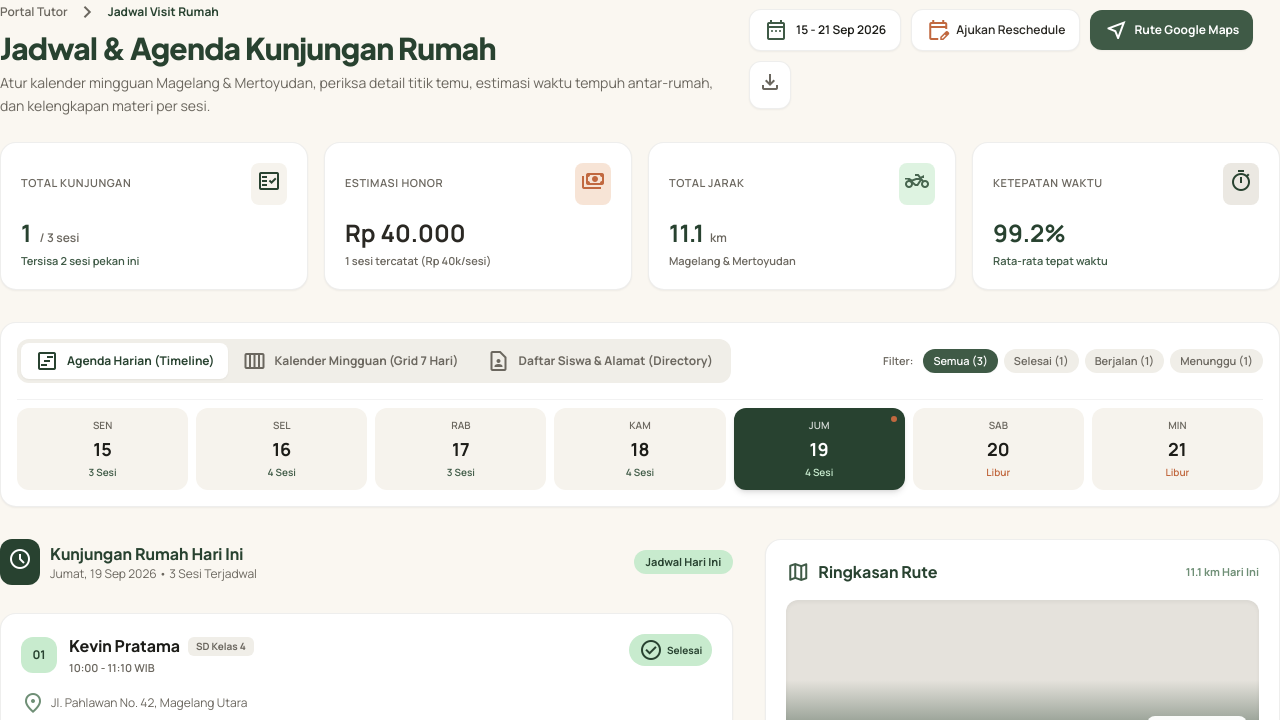
Test: TutorVisitSchedule Component (SQA-ISTQB & TDD) › TC-TVS-006: opens reschedule modal and submits reschedule request
Click the button "Ajukan Reschedule" at (996, 30), box top-left (911, 9), bottom-right (1080, 51)
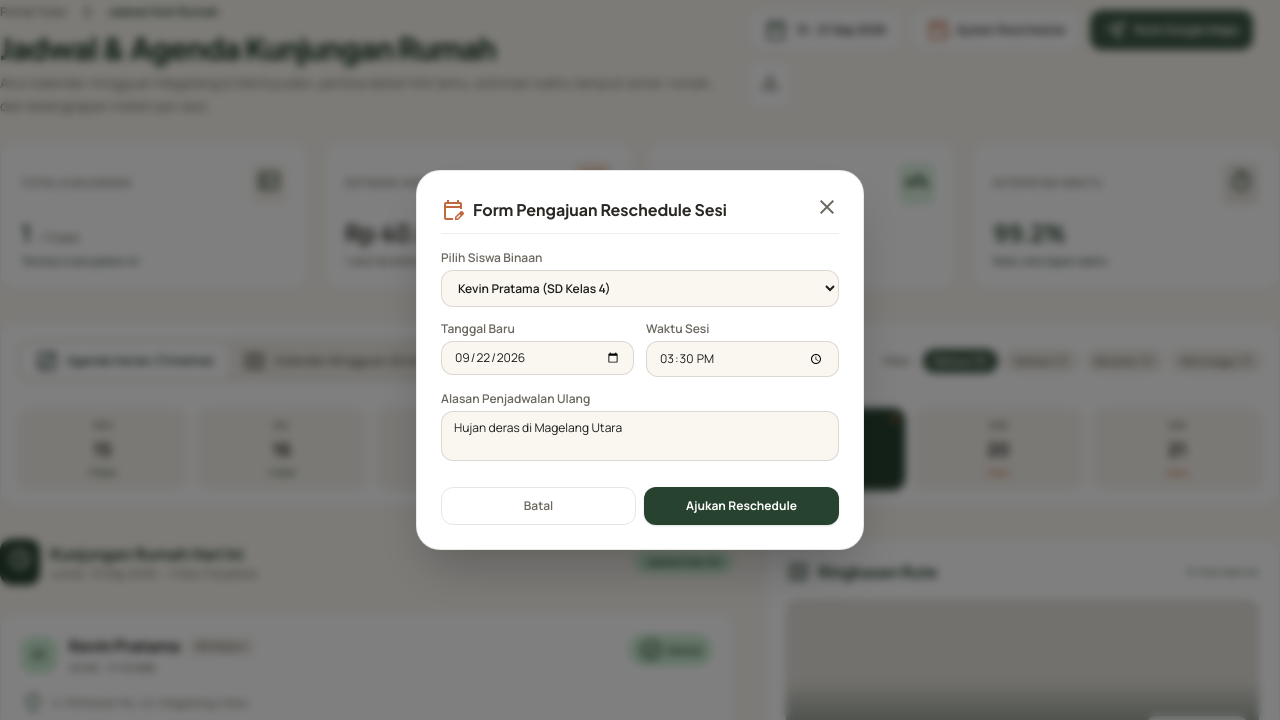
expect the heading "Form Pengajuan Reschedule Sesi" is shown: met, box top-left (473, 198), bottom-right (727, 222)
# Close modal
Click the button "Batal" at (538, 506), box top-left (441, 487), bottom-right (636, 525)
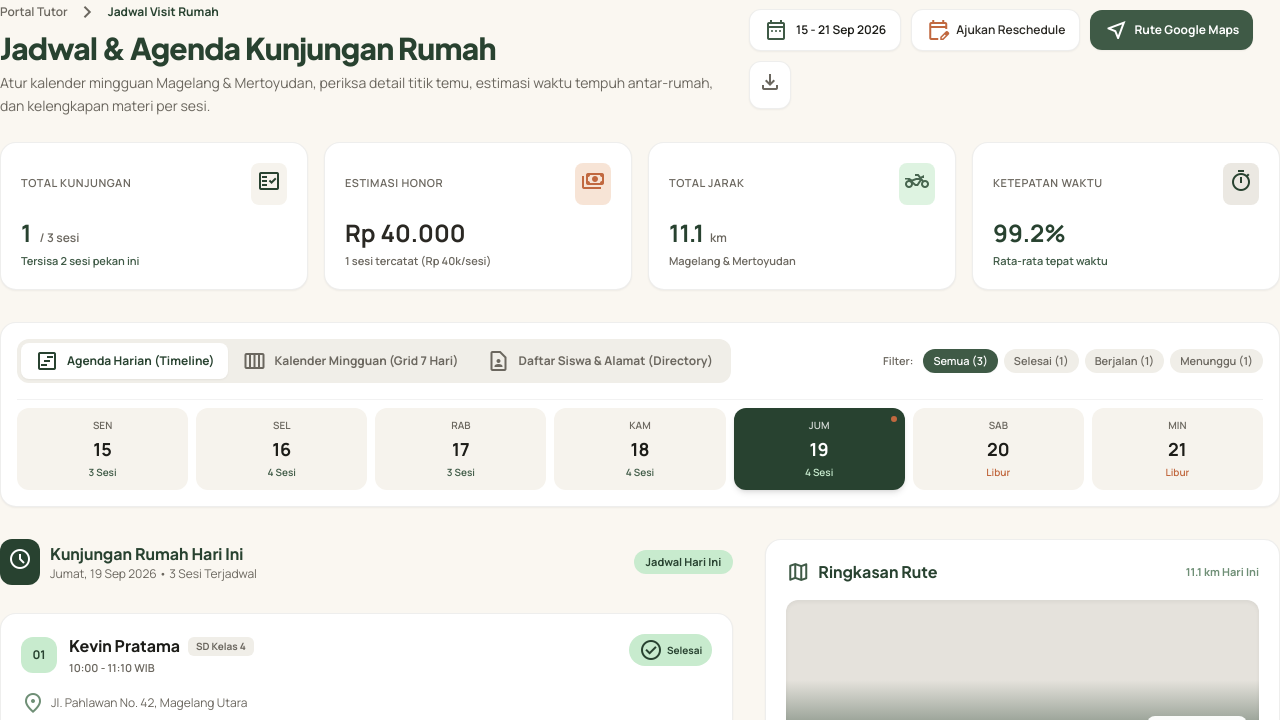
expect the heading "Form Pengajuan Reschedule Sesi" is gone: met
